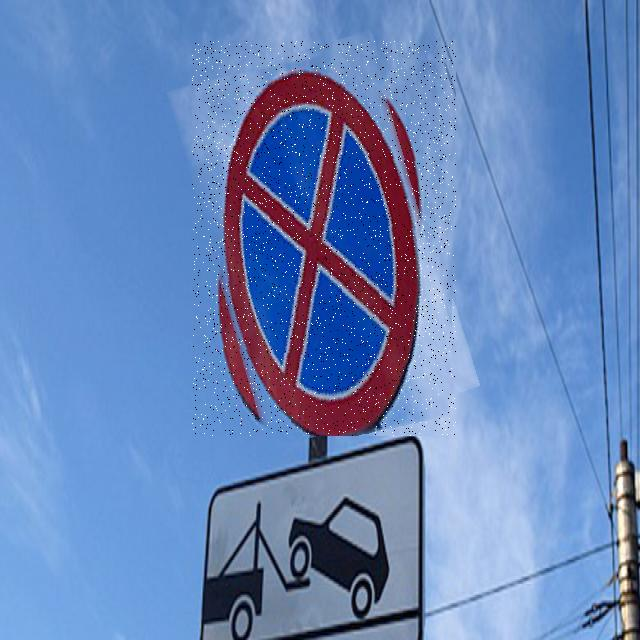no stopping: (192, 41, 456, 436)
